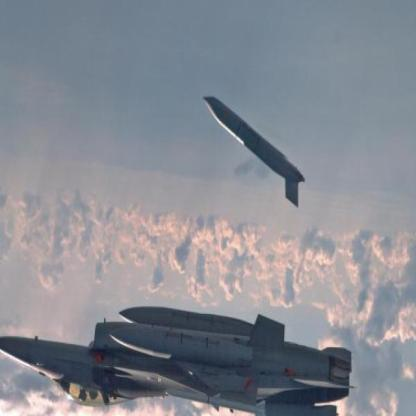MIL_TBM: (198, 91, 308, 212)
